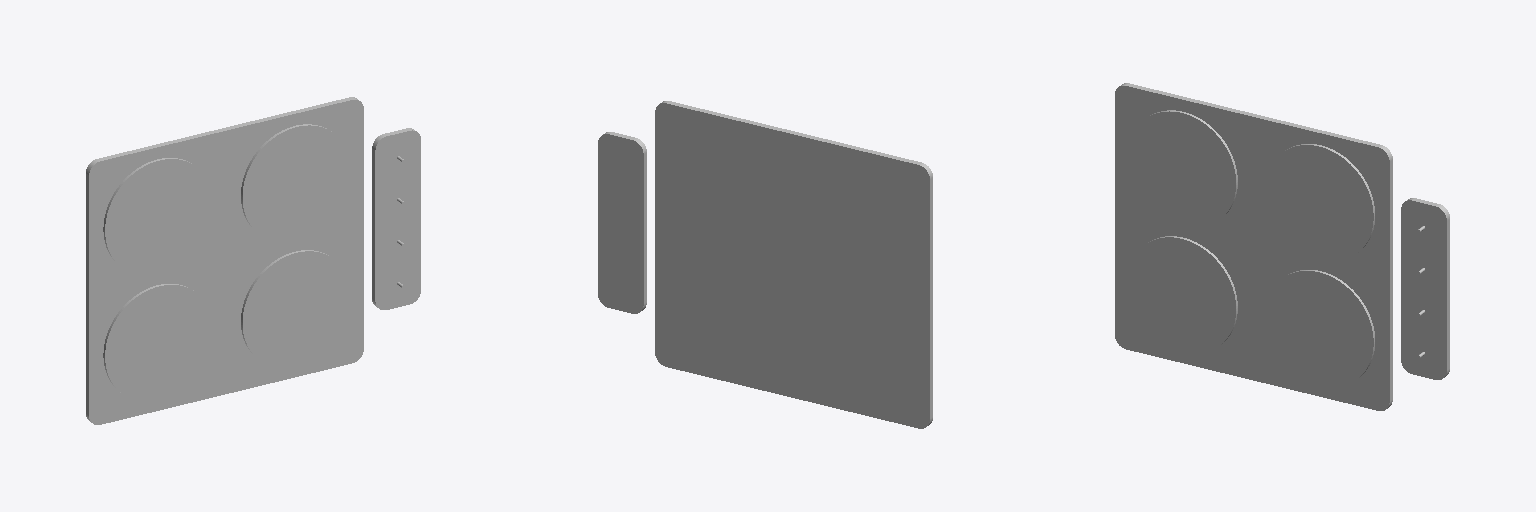
Rendered from Stove.obj.
The picture shows the model from 3 angles: view 1: azimuth 30°, elevation 25°; view 2: azimuth 150°, elevation 25°; view 3: azimuth 330°, elevation 25°; orthographic projection.
Bounding box in the file's own units: 737 × 559 × 31.75.